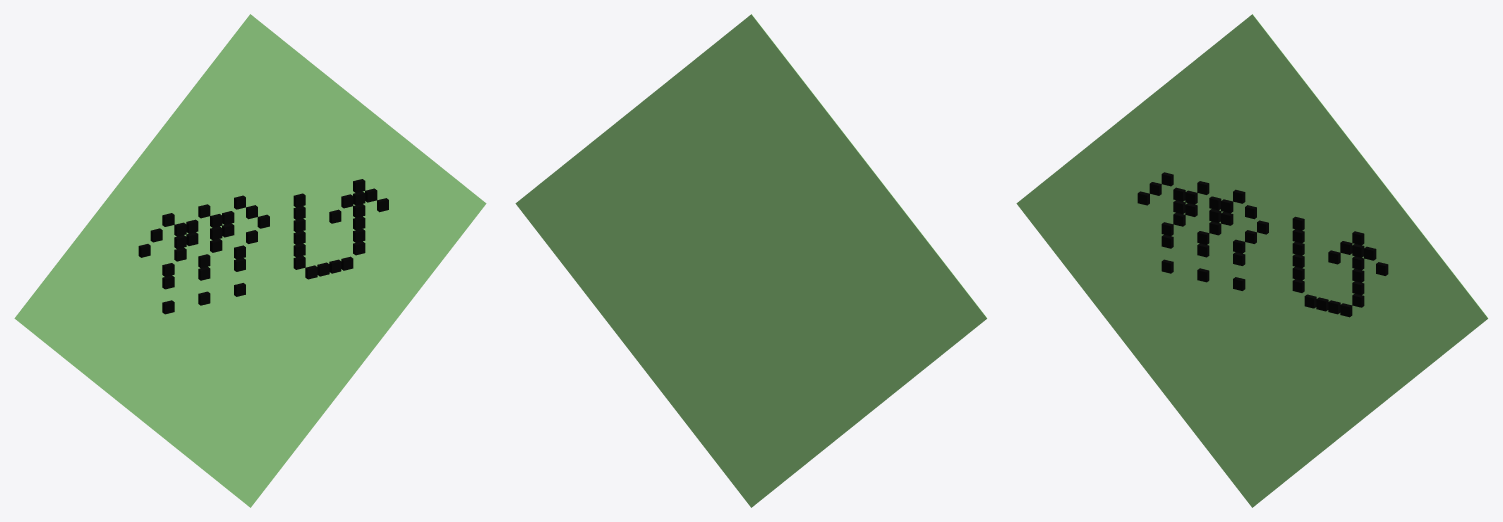
The model's file is ClearMyInebriety.fbx.
3 renders of one model, left to right at view 1: azimuth 30°, elevation 25°; view 2: azimuth 150°, elevation 25°; view 3: azimuth 330°, elevation 25°, orthographic.
Parts seen in each view (by area): view 1: Cube.048; view 2: Cube.048; view 3: Cube.048.
Part boxes in pixels (box(x1,y1,x2,y2)): Cube.048: box(14, 14, 486, 507); Cube.048: box(515, 14, 987, 507); Cube.048: box(1016, 14, 1488, 507).
Size of the model in its own units: 198 by 198 by 2.1.
